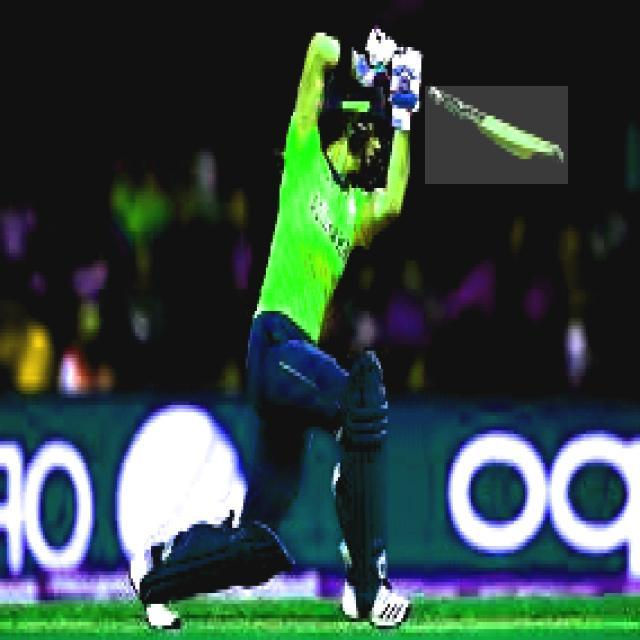bat: (426, 83, 572, 186)
toe: (541, 143, 565, 166)
